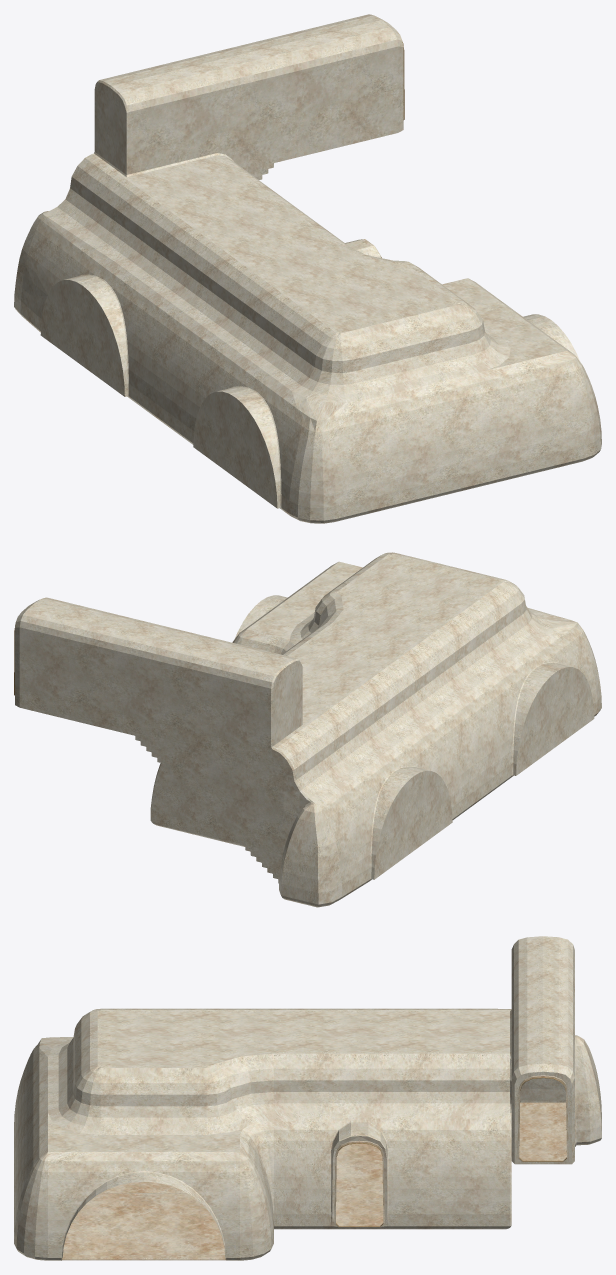
File: ply_tato_house_m_s01_fp1_r3_livingroom_mesh_r3.fbx
3 views of the same model, one above another, from view 1: azimuth 30°, elevation 25°; view 2: azimuth 150°, elevation 25°; view 3: azimuth 270°, elevation 25° (orthographic). The views are drawn at different scales.
Parts seen in each view (by area): view 1: mesh_node; view 2: mesh_node; view 3: mesh_node.
Part boxes in pixels (box(x1,y1,x2,y2)): mesh_node: box(14, 14, 601, 523); mesh_node: box(14, 552, 601, 907); mesh_node: box(14, 936, 601, 1260).
Bounding box in the file's own units: 13.2 × 8.31 × 19.12.
